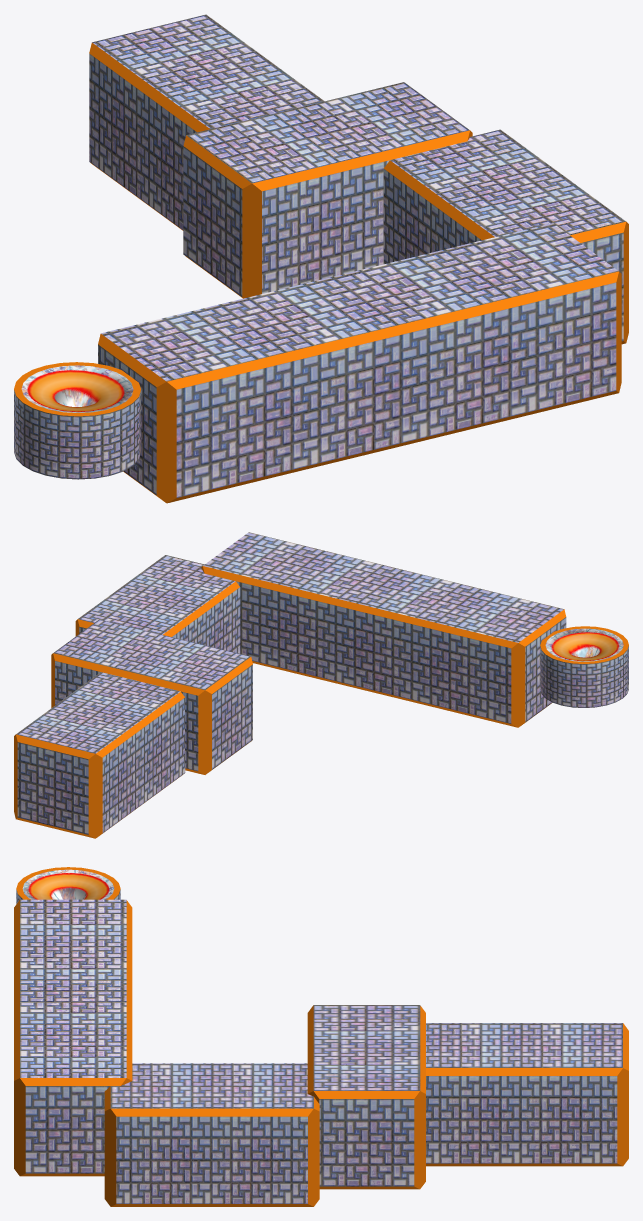
File: Level05.fbx
3 renders of one model, top to bottom at view 1: azimuth 30°, elevation 25°; view 2: azimuth 150°, elevation 25°; view 3: azimuth 270°, elevation 25°, orthographic. The views are drawn at different scales.
Parts seen in each view (by area): view 1: Level05; view 2: Level05; view 3: Level05.
Part boxes in pixels (x1,y1,x2,y2): Level05: (14, 14, 628, 503); Level05: (14, 532, 628, 838); Level05: (14, 867, 628, 1206).
Size of the model in its own units: 1639 by 317 by 1700.
5 materials, 4 textured.
